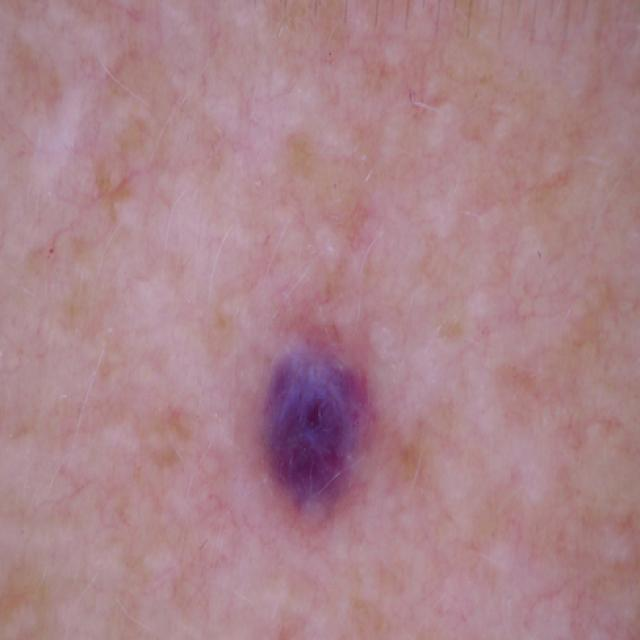Vascular Lesions: (232, 317, 448, 507)
